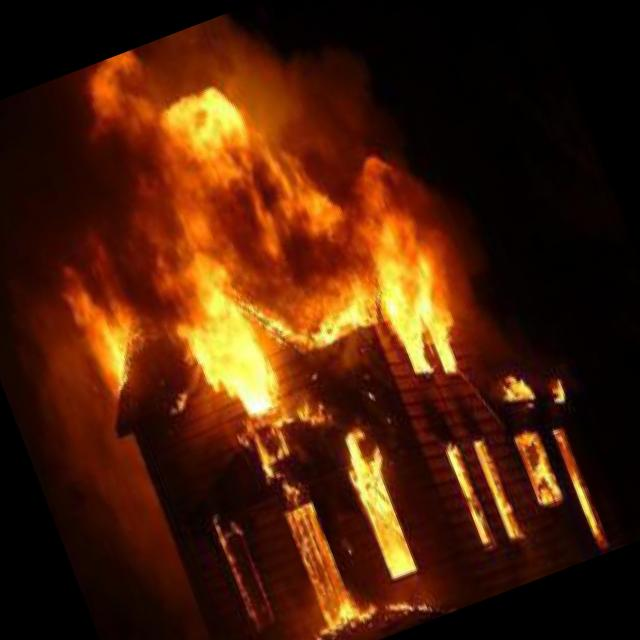fire: (18, 28, 484, 488), (193, 406, 438, 640), (420, 357, 622, 590)
